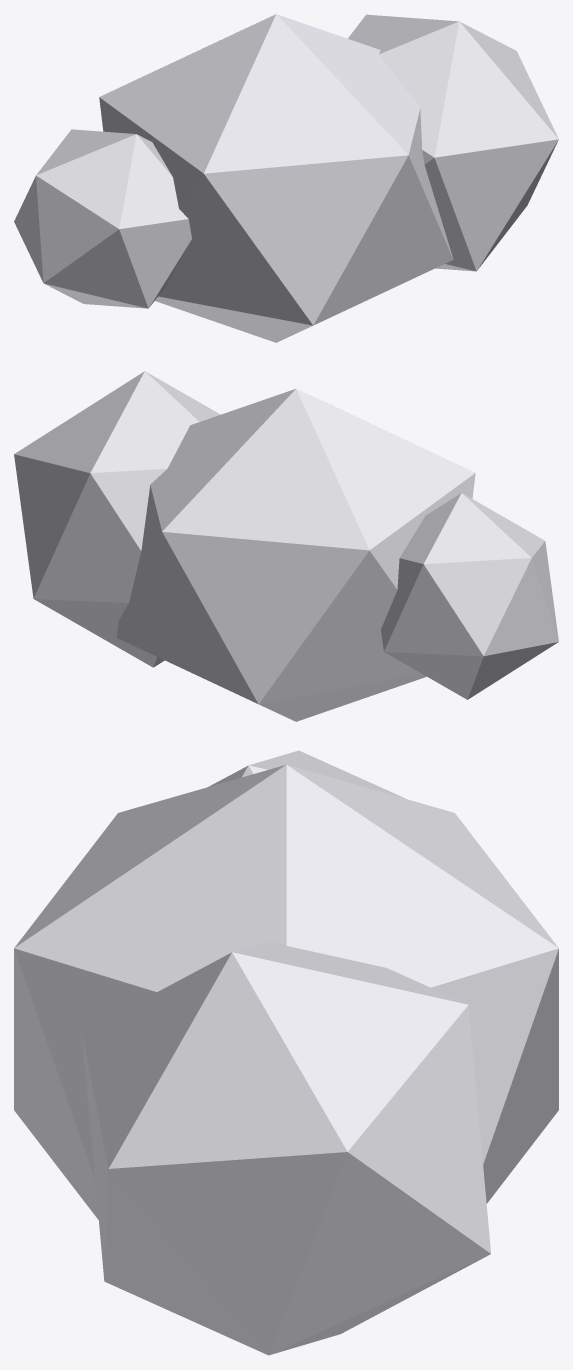
The model's file is Cloud_2_pal.fbx.
The picture shows the model from 3 angles, top to bottom: view 1: azimuth 30°, elevation 25°; view 2: azimuth 150°, elevation 25°; view 3: azimuth 270°, elevation 25°; orthographic projection. The views are drawn at different scales.
Visible parts, largest first — view 1: Cloud_2_pal; view 2: Cloud_2_pal; view 3: Cloud_2_pal.
Part boxes in pixels (bbox=[...]): Cloud_2_pal: bbox=[14, 14, 558, 342]; Cloud_2_pal: bbox=[14, 371, 558, 721]; Cloud_2_pal: bbox=[14, 750, 558, 1355].
Bounding box in the file's own units: 148 × 92.12 × 85.99.
